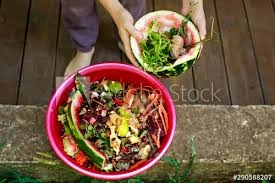kitchen_waste: (128, 8, 203, 80), (63, 88, 110, 170), (110, 82, 170, 146), (104, 110, 133, 138), (101, 130, 125, 156)
